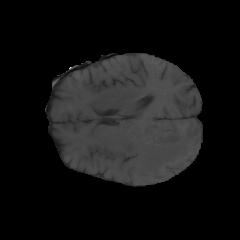glioma: (122, 120, 198, 172)
